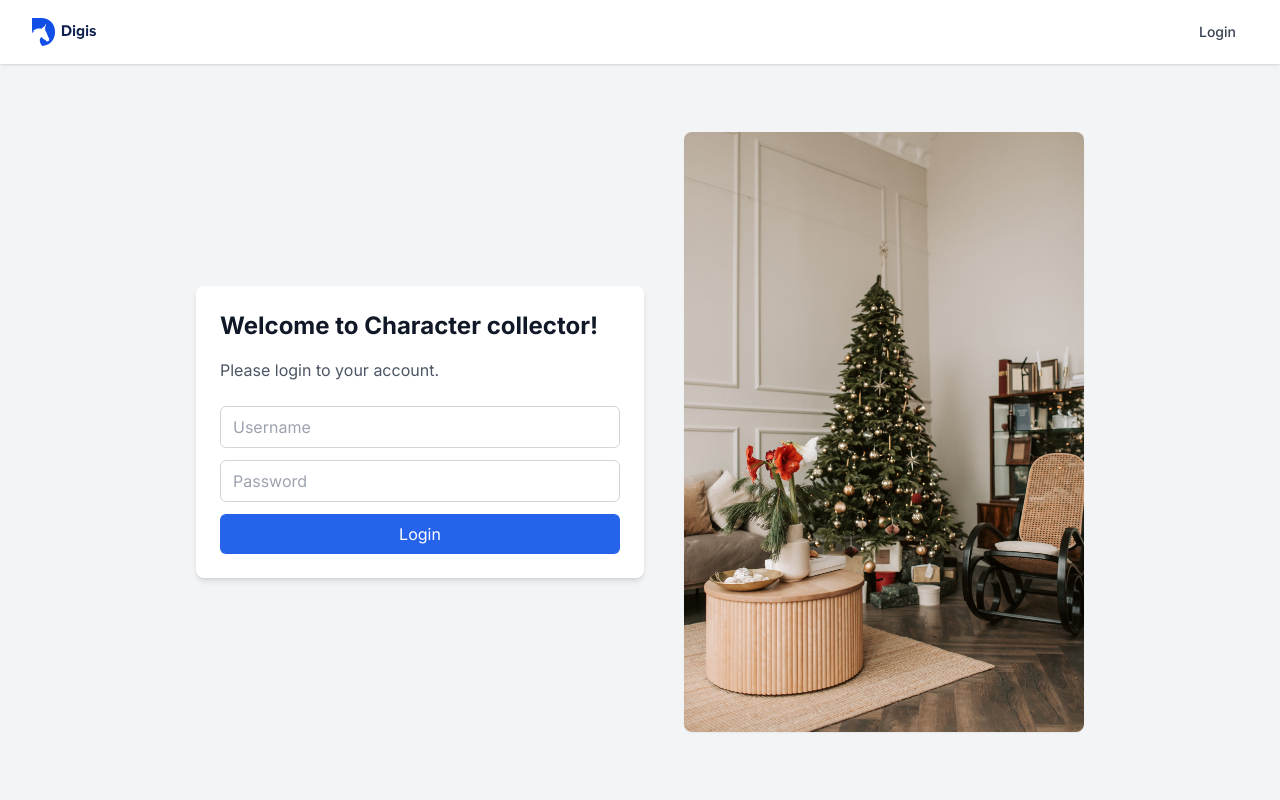
Test: Login › Check for error message
Type "testuser" into the field with placeholder "Username" at (420, 427), box [220,406,620,448]
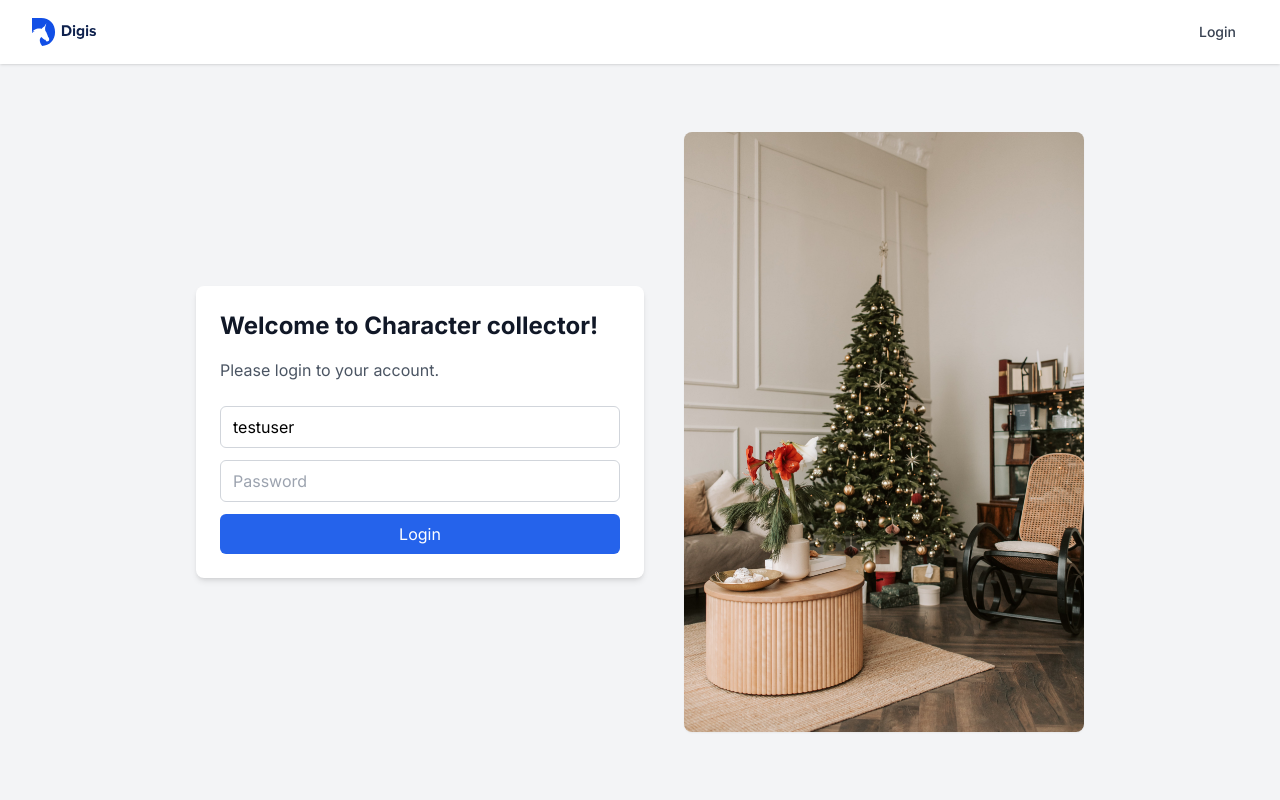
Type "password123" into the password field with placeholder "Password" at (420, 481), box [220,460,620,502]
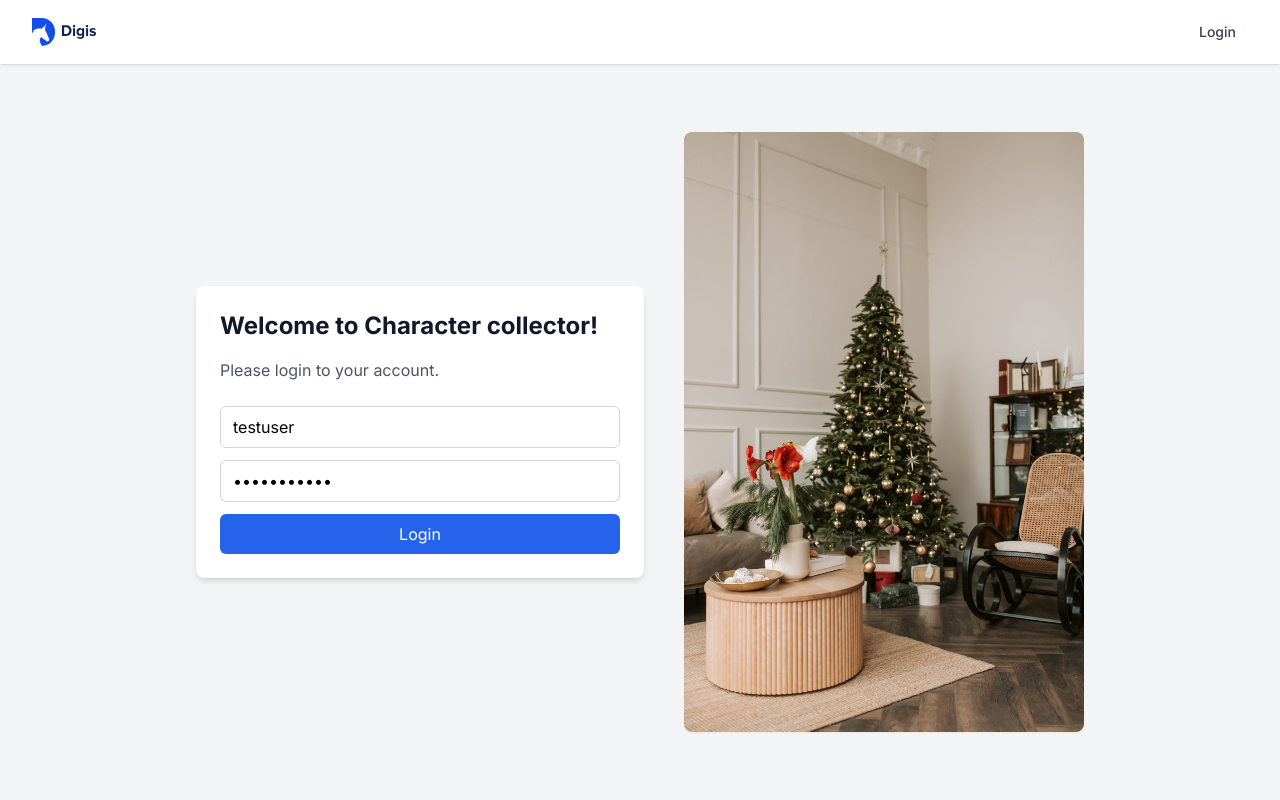
Click the button "Login" below "Please login to your account." at (420, 534), box [220,514,620,554]
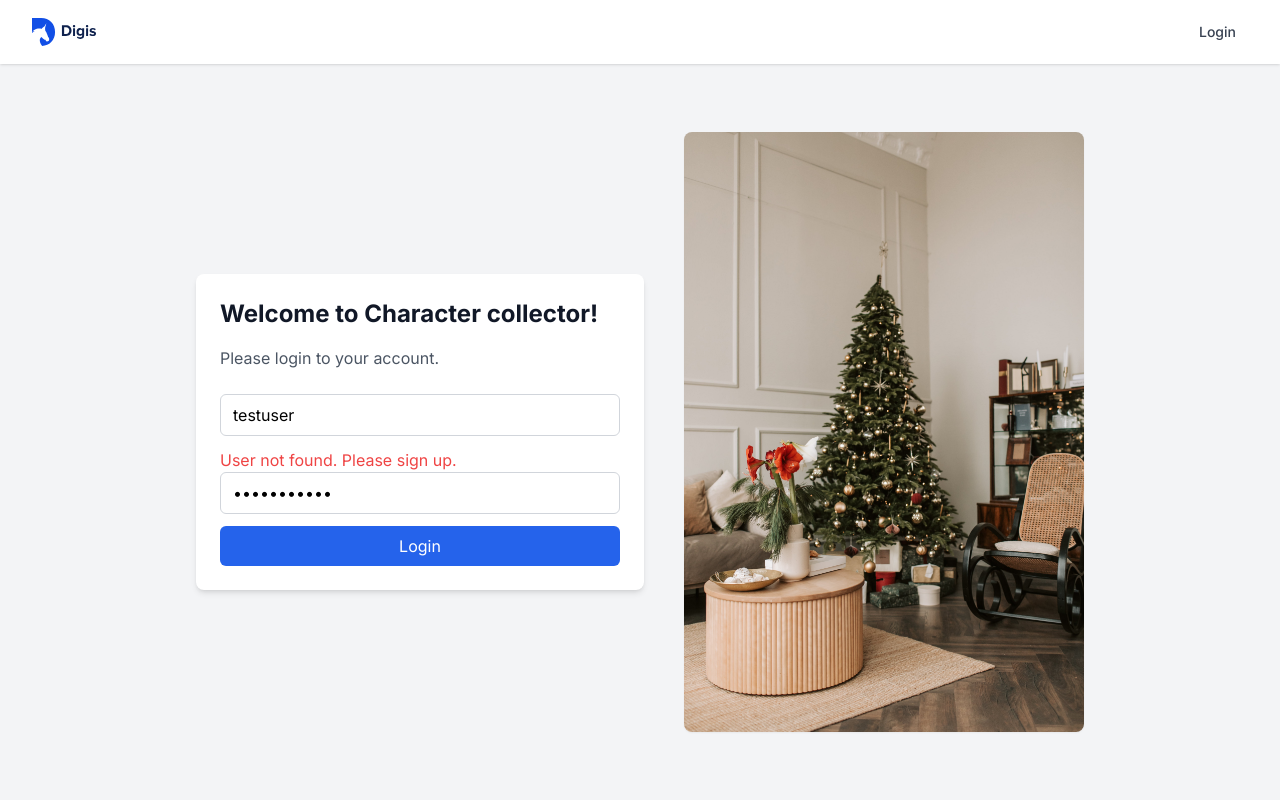
Expected: the text "User not found. Please sign up." is shown, [220,450,457,470]
